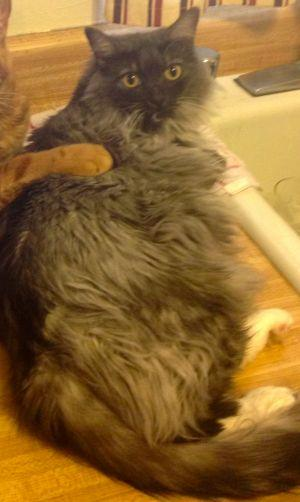persian: (73, 1, 213, 139)
